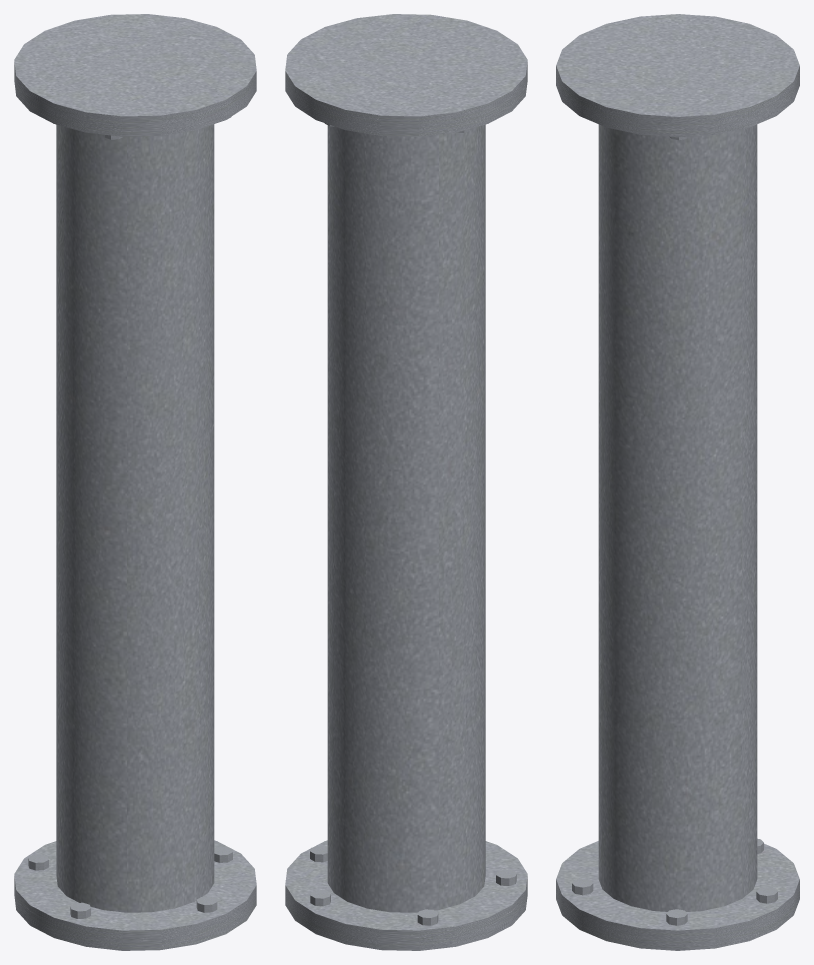
Rendered from pipe.fbx.
The picture shows the model from 3 angles, left to right: view 1: azimuth 30°, elevation 25°; view 2: azimuth 150°, elevation 25°; view 3: azimuth 270°, elevation 25°; orthographic projection.
Visible parts, largest first — view 1: pCylinder1, pCylinder8, pCylinder2; view 2: pCylinder1, pCylinder8, pCylinder2; view 3: pCylinder1, pCylinder8, pCylinder2.
Part boxes in pixels (left/top/right/bottom): pCylinder1: left=56, top=124, right=214, bottom=912; pCylinder8: left=14, top=14, right=256, bottom=136; pCylinder2: left=14, top=840, right=256, bottom=950; pCylinder1: left=327, top=124, right=485, bottom=912; pCylinder8: left=285, top=14, right=527, bottom=136; pCylinder2: left=285, top=840, right=527, bottom=950; pCylinder1: left=598, top=124, right=757, bottom=911; pCylinder8: left=556, top=14, right=799, bottom=137; pCylinder2: left=556, top=841, right=799, bottom=950.
Bounding box in the file's own units: 2.09 × 7.88 × 2.09.
